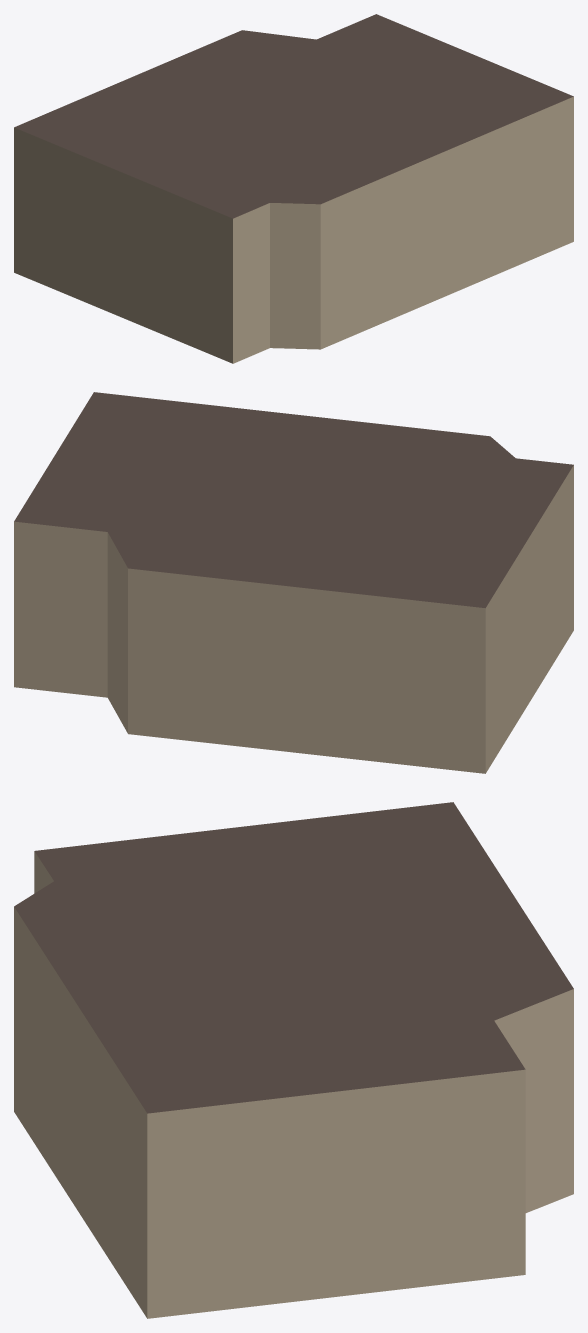
3 views of the same model, one above another, from view 1: azimuth 30°, elevation 25°; view 2: azimuth 150°, elevation 25°; view 3: azimuth 270°, elevation 25° (orthographic). The views are drawn at different scales.
Visible parts, largest first — view 1: HP-w1198842214; view 2: HP-w1198842214; view 3: HP-w1198842214.
Part boxes in pixels (<box>): HP-w1198842214: <box>14,14,573,363</box>; HP-w1198842214: <box>14,392,573,773</box>; HP-w1198842214: <box>14,802,573,1318</box>.
Size of the model in its own units: 29.29 by 9 by 22.25.
